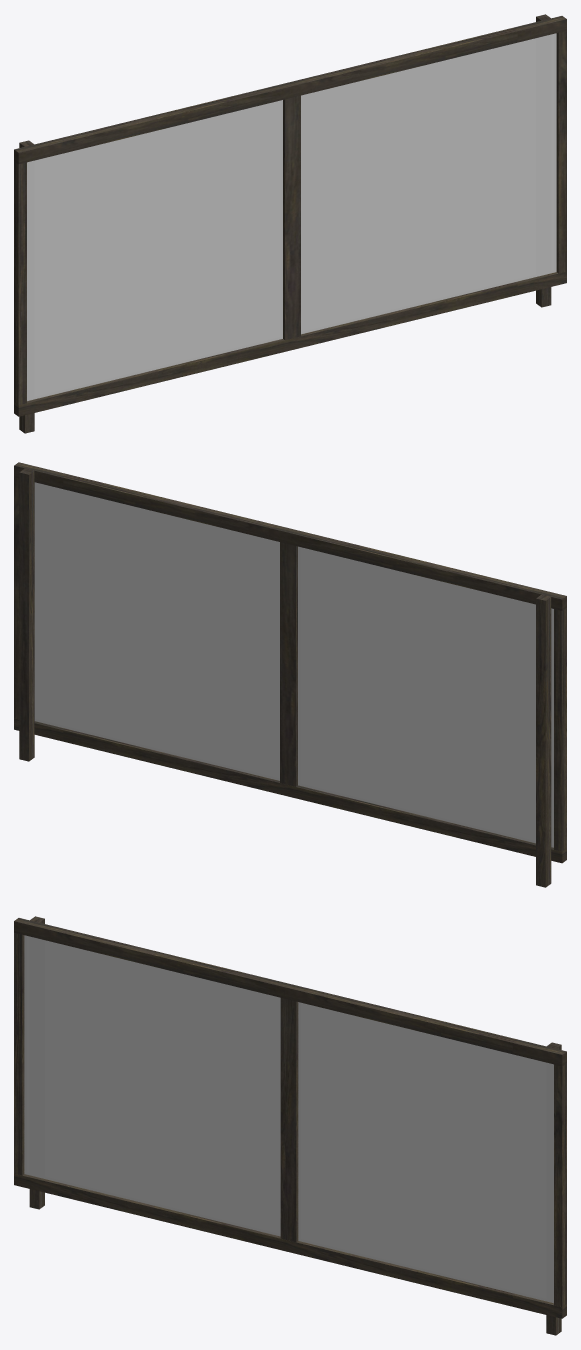
Rendered from EAFpolycadesign_w1998-h920_blackebony.fbx.
3 views of the same model, one above another, from view 1: azimuth 30°, elevation 25°; view 2: azimuth 150°, elevation 25°; view 3: azimuth 330°, elevation 25° (orthographic).
Parts seen in each view (by area): view 1: EAFpolycadesign_w1998-h920_blackebony; view 2: EAFpolycadesign_w1998-h920_blackebony; view 3: EAFpolycadesign_w1998-h920_blackebony.
Part boxes in pixels (box(x1,y1,x2,y2)): EAFpolycadesign_w1998-h920_blackebony: box(14, 14, 566, 433); EAFpolycadesign_w1998-h920_blackebony: box(14, 462, 566, 887); EAFpolycadesign_w1998-h920_blackebony: box(14, 916, 566, 1335).
Size of the model in its own units: 200 by 100 by 6.5.
Materials: 3 (2 with a texture image).
